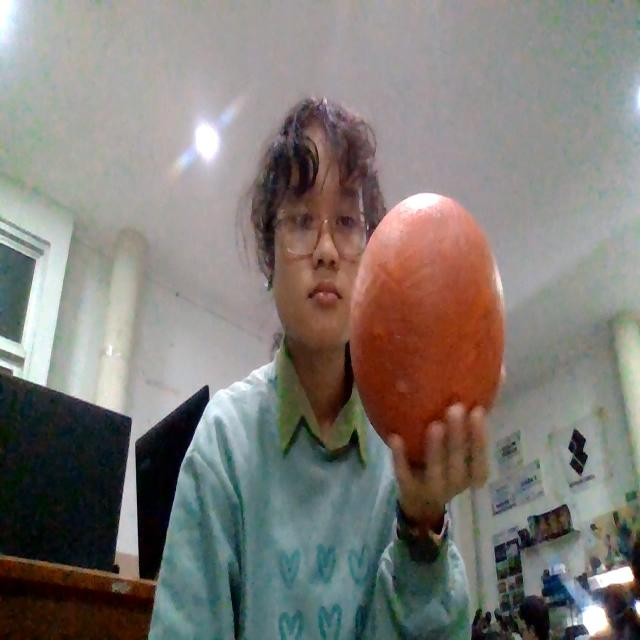ball: (348, 191, 505, 468)
